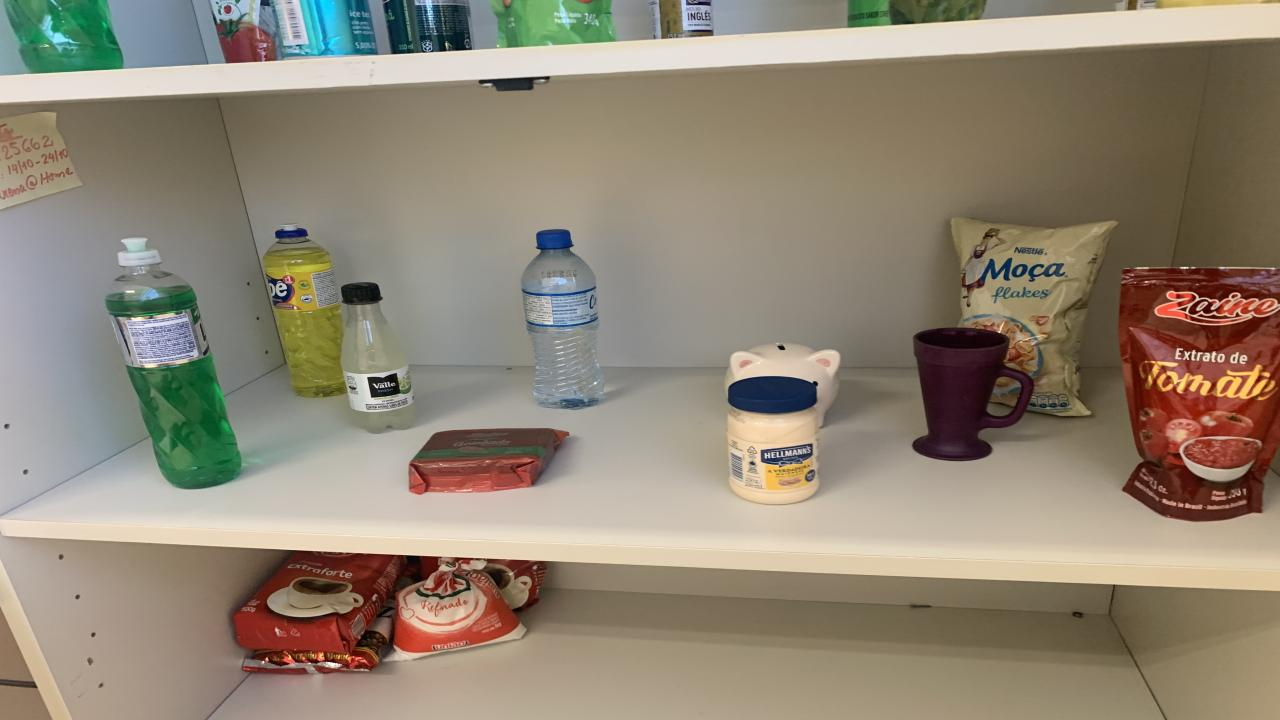Detergent-Cleanup_Items: (105, 238, 240, 488), (262, 225, 345, 398), (5, 0, 122, 73), (890, 0, 988, 24)
English_Sauce-Pantry_Items: (648, 0, 712, 39)
Flakes-Snacks: (950, 218, 1118, 416)
Guarana_Can-Drinks: (382, 0, 472, 54)
Guava-Snacks: (410, 428, 568, 493)
Mayonnaise-Pantry_Items: (728, 377, 820, 504)
Pig_Safe-Miscellaneous: (725, 343, 840, 426)
Pringles-Snacks: (848, 0, 892, 28)
Soda-Drinks: (340, 281, 415, 433)
Tea-Drinks: (275, 0, 378, 58)
Tomato_Sauce-Pantry_Items: (1120, 268, 1280, 521), (490, 0, 615, 47), (210, 0, 278, 64)
Water_Bottle-Drinks: (520, 229, 602, 409)
